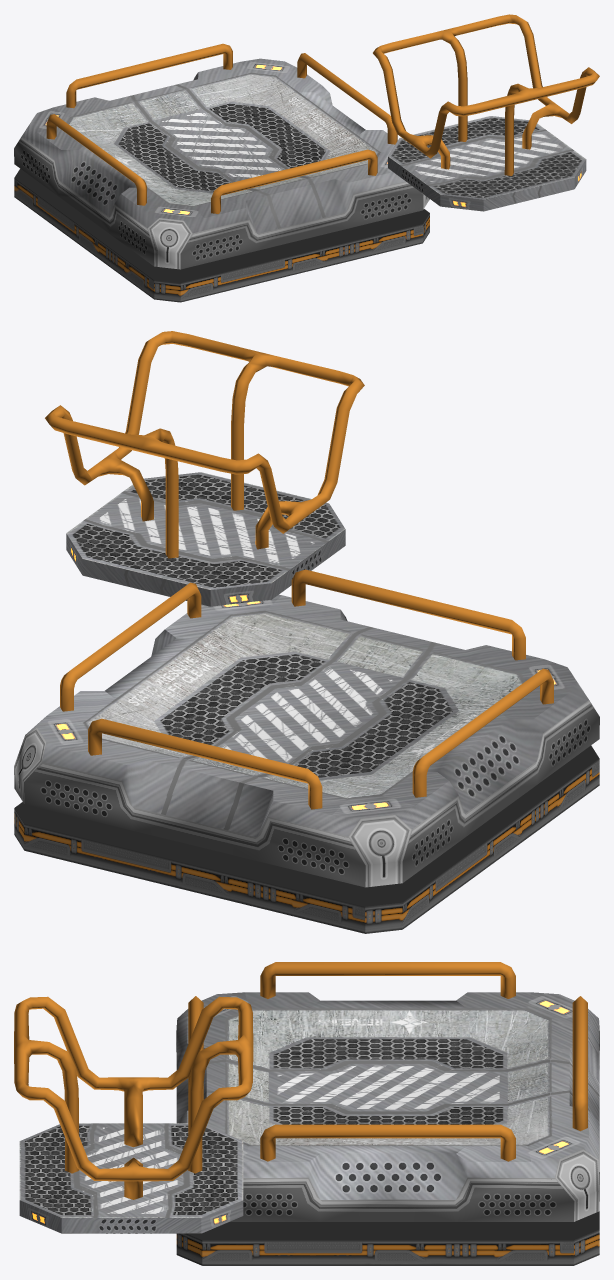
File: drone-depot.glb
3 renders of one model, top to bottom at view 1: azimuth 30°, elevation 25°; view 2: azimuth 150°, elevation 25°; view 3: azimuth 270°, elevation 25°, orthographic. The views are drawn at different scales.
Parts seen in each view (by area): view 1: Plane.009; view 2: Plane.009; view 3: Plane.009.
Boxes of the visible parts, box(x1,y1,x2,y2) form: Plane.009: box(14, 14, 599, 302); Plane.009: box(14, 331, 599, 933); Plane.009: box(14, 962, 599, 1265).
Size of the model in its own units: 19.73 by 9.06 by 19.75.
Materials: 1 (1 with a texture image).
